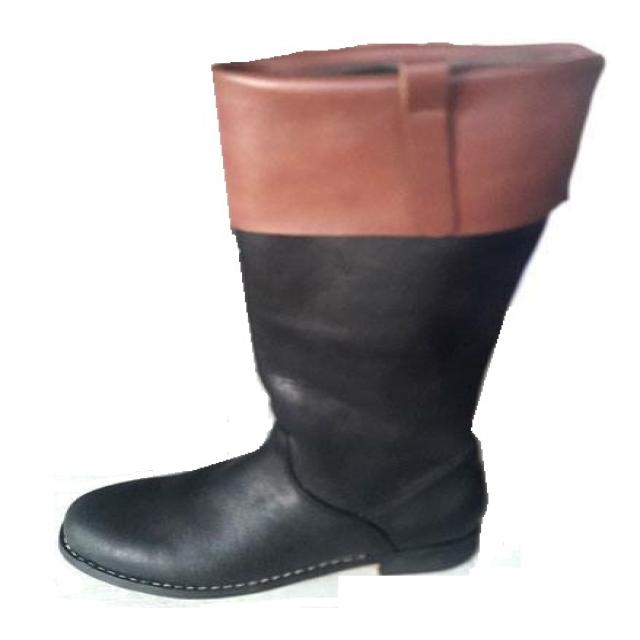boot: (22, 23, 625, 580)
